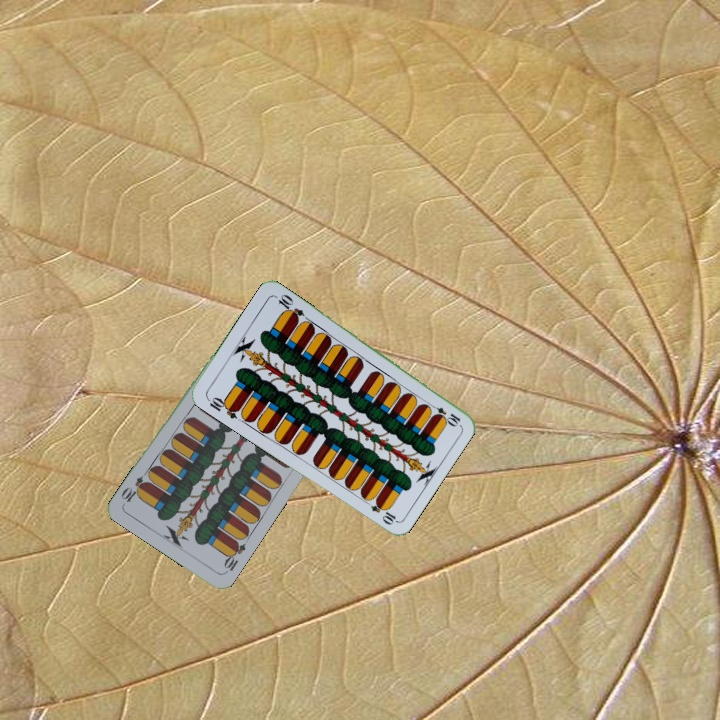E10: (219, 537, 248, 576), (203, 393, 242, 421), (425, 400, 463, 428)
